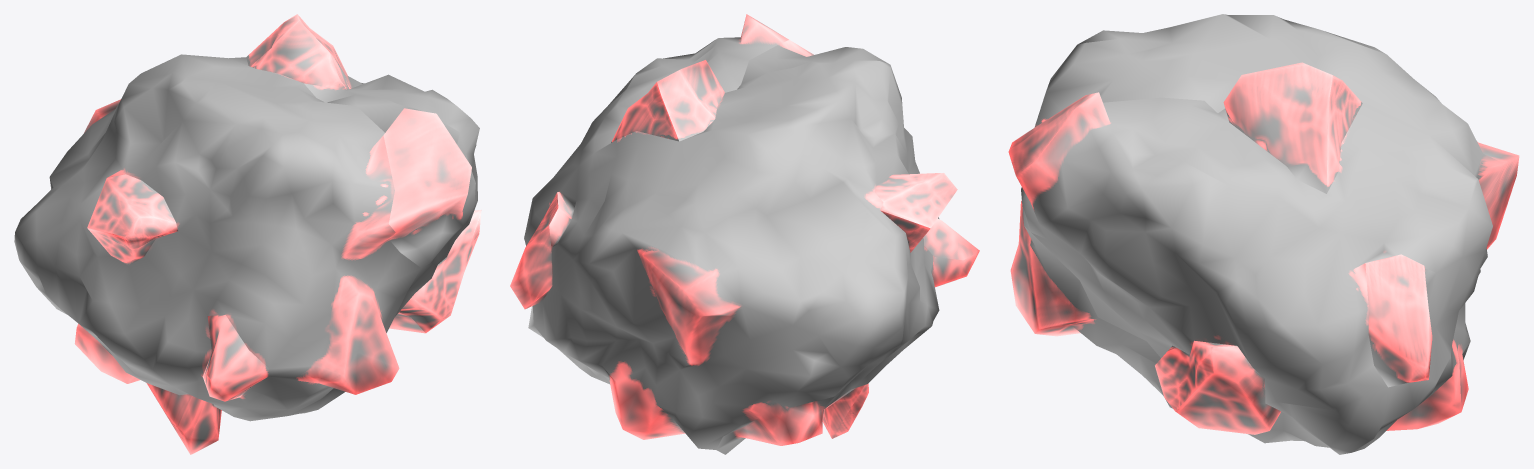
The model's file is Asteroid_2.FBX.
3 renders of one model, left to right at view 1: azimuth 30°, elevation 25°; view 2: azimuth 150°, elevation 25°; view 3: azimuth 270°, elevation 25°, orthographic. The views are drawn at different scales.
Parts seen in each view (by area): view 1: Asteroid_2_LOD0; view 2: Asteroid_2_LOD0; view 3: Asteroid_2_LOD0.
Part boxes in pixels (x1,y1,x2,y2): Asteroid_2_LOD0: [14, 14, 481, 454]; Asteroid_2_LOD0: [510, 14, 979, 454]; Asteroid_2_LOD0: [1008, 14, 1519, 454].
Size of what is drawn, in the model's own units: 96.1 by 95.3 by 85.31.
